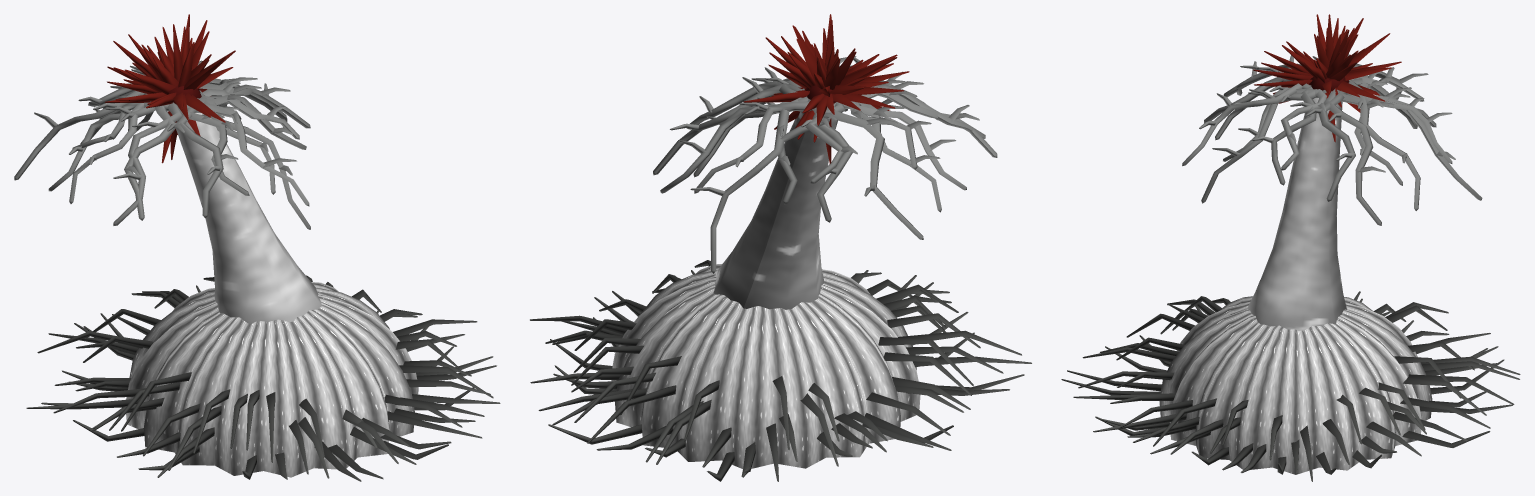
File: TarTree09.glb
The picture shows the model from 3 angles, left to right: view 1: azimuth 30°, elevation 25°; view 2: azimuth 150°, elevation 25°; view 3: azimuth 270°, elevation 25°; orthographic projection. The views are drawn at different scales.
Visible parts, largest first — view 1: TarTree09_dome; view 2: TarTree09_dome; view 3: TarTree09_dome.
Part boxes in pixels (x1,y1,x2,y2): TarTree09_dome: (14, 14, 500, 481); TarTree09_dome: (530, 14, 1031, 481); TarTree09_dome: (1061, 14, 1520, 481).
Size of the model in its own units: 6.89 by 6.16 by 6.98.
4 materials, 1 textured.
